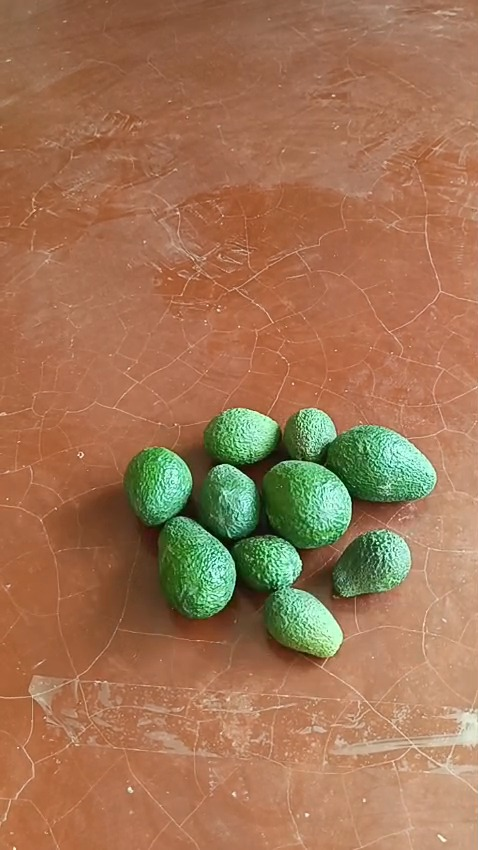Primera: (323, 424, 436, 502), (156, 514, 237, 619), (261, 459, 352, 547)
Segunda: (123, 446, 193, 526)
Tercera: (261, 583, 343, 658), (331, 528, 413, 598), (196, 462, 261, 541), (201, 406, 281, 467), (231, 534, 302, 592), (280, 407, 338, 463)
